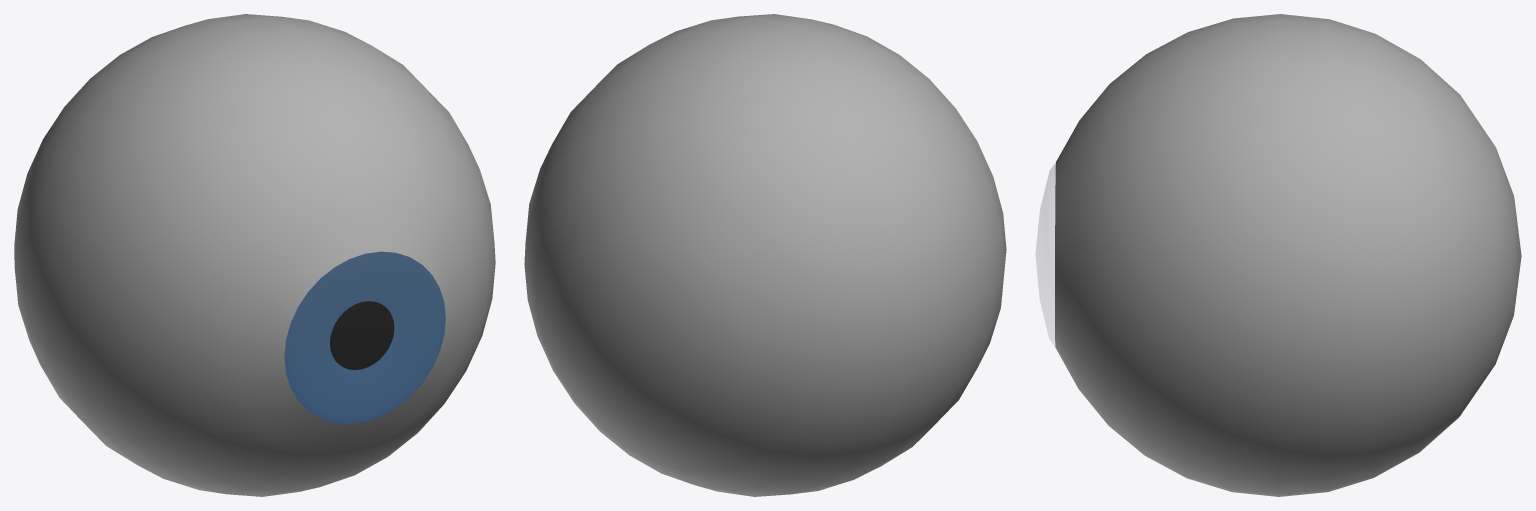
The model's file is eye.dae.
The picture shows the model from 3 angles, left to right: view 1: azimuth 30°, elevation 25°; view 2: azimuth 150°, elevation 25°; view 3: azimuth 270°, elevation 25°; orthographic projection.
Visible parts, largest first — view 1: eyeball_1; view 2: eyeball_1; view 3: eyeball_1.
Boxes of the visible parts, x1,y1,x2,y2 form: eyeball_1: [14, 14, 495, 496]; eyeball_1: [524, 14, 1006, 496]; eyeball_1: [1035, 14, 1521, 496].
Bounding box in the file's own units: 3.91 × 3.93 × 3.91.
